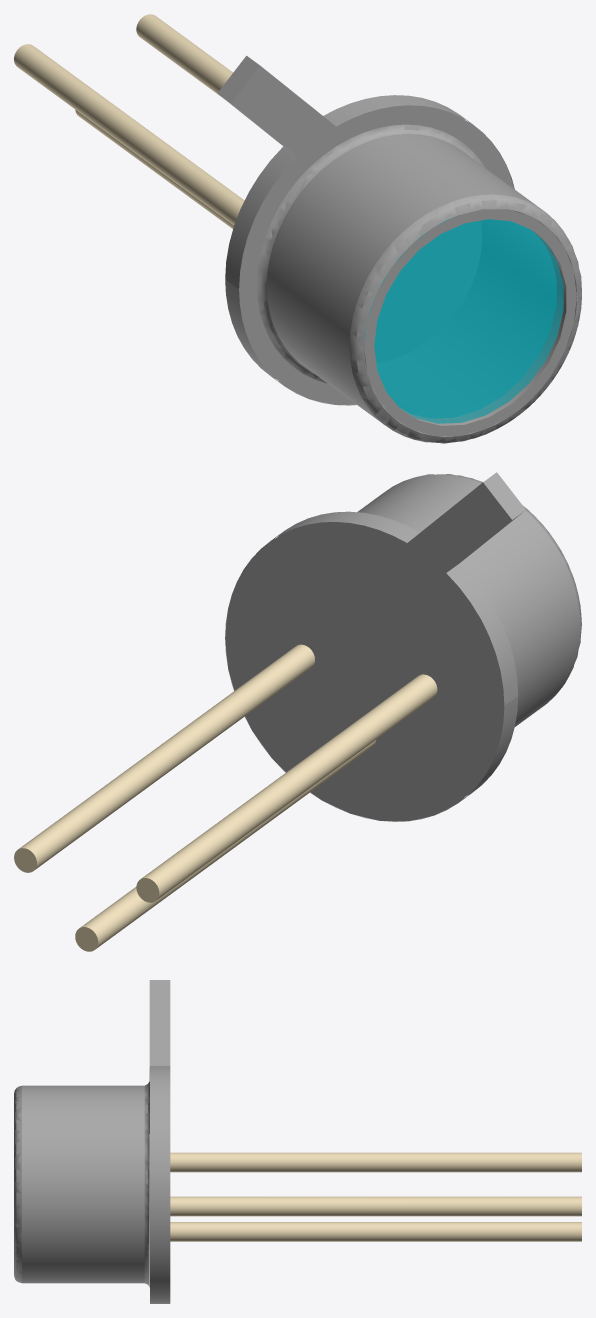
The model's file is TO-52-3_Window.glb.
The picture shows the model from 3 angles, top to bottom: view 1: azimuth 30°, elevation 25°; view 2: azimuth 150°, elevation 25°; view 3: azimuth 270°, elevation 25°; orthographic projection. The views are drawn at different scales.
Visible parts, largest first — view 1: Shape_IndexedFaceSet.016, Shape_IndexedFaceSet.022, Shape_IndexedFaceSet.025, Shape_IndexedFaceSet.024, Shape_IndexedFaceSet.010, Shape_IndexedFaceSet.023, Shape_IndexedFaceSet.019, Shape_IndexedFaceSet.014, Shape_IndexedFaceSet.020, Shape_IndexedFaceSet.004, Shape_IndexedFaceSet.012, Shape_IndexedFaceSet.011 (+6 smaller); view 2: Shape_IndexedFaceSet.009, Shape_IndexedFaceSet.016, Shape_IndexedFaceSet.014, Shape_IndexedFaceSet.011, Shape_IndexedFaceSet.007, Shape_IndexedFaceSet.003, Shape_IndexedFaceSet.013, Shape_IndexedFaceSet.006, Shape_IndexedFaceSet.005, Shape_IndexedFaceSet; view 3: Shape_IndexedFaceSet.016, Shape_IndexedFaceSet.011, Shape_IndexedFaceSet.014, Shape_IndexedFaceSet.013, Shape_IndexedFaceSet.006, Shape_IndexedFaceSet.002, Shape_IndexedFaceSet.019, Shape_IndexedFaceSet.012.
Boxes of the visible parts, box(x1,y1,x2,y2) form: Shape_IndexedFaceSet.016: box(266, 133, 576, 436); Shape_IndexedFaceSet.022: box(374, 219, 563, 423); Shape_IndexedFaceSet.025: box(365, 217, 556, 418); Shape_IndexedFaceSet.024: box(364, 208, 556, 418); Shape_IndexedFaceSet.010: box(239, 106, 514, 404); Shape_IndexedFaceSet.023: box(364, 218, 481, 362); Shape_IndexedFaceSet.019: box(349, 194, 581, 443); Shape_IndexedFaceSet.014: box(14, 44, 244, 225); Shape_IndexedFaceSet.020: box(364, 209, 576, 436); Shape_IndexedFaceSet.004: box(231, 66, 335, 156); Shape_IndexedFaceSet.012: box(257, 124, 484, 383); Shape_IndexedFaceSet.011: box(136, 14, 232, 98); Shape_IndexedFaceSet.009: box(225, 522, 504, 821); Shape_IndexedFaceSet.016: box(357, 474, 580, 726); Shape_IndexedFaceSet.014: box(141, 674, 437, 900); Shape_IndexedFaceSet.011: box(18, 644, 314, 869); Shape_IndexedFaceSet.007: box(289, 543, 445, 675); Shape_IndexedFaceSet.003: box(407, 482, 511, 572); Shape_IndexedFaceSet.013: box(80, 740, 375, 949); Shape_IndexedFaceSet.006: box(225, 511, 518, 821); Shape_IndexedFaceSet.005: box(446, 563, 518, 705); Shape_IndexedFaceSet: box(483, 472, 525, 519); Shape_IndexedFaceSet.016: box(22, 1085, 144, 1283); Shape_IndexedFaceSet.011: box(170, 1196, 581, 1216); Shape_IndexedFaceSet.014: box(170, 1152, 581, 1172); Shape_IndexedFaceSet.013: box(170, 1222, 581, 1241); Shape_IndexedFaceSet.006: box(150, 1066, 170, 1303); Shape_IndexedFaceSet.002: box(149, 980, 170, 1065); Shape_IndexedFaceSet.019: box(14, 1086, 21, 1282); Shape_IndexedFaceSet.012: box(144, 1081, 149, 1287).
Size of the model in its own units: 2.35 by 2.85 by 5.43.
